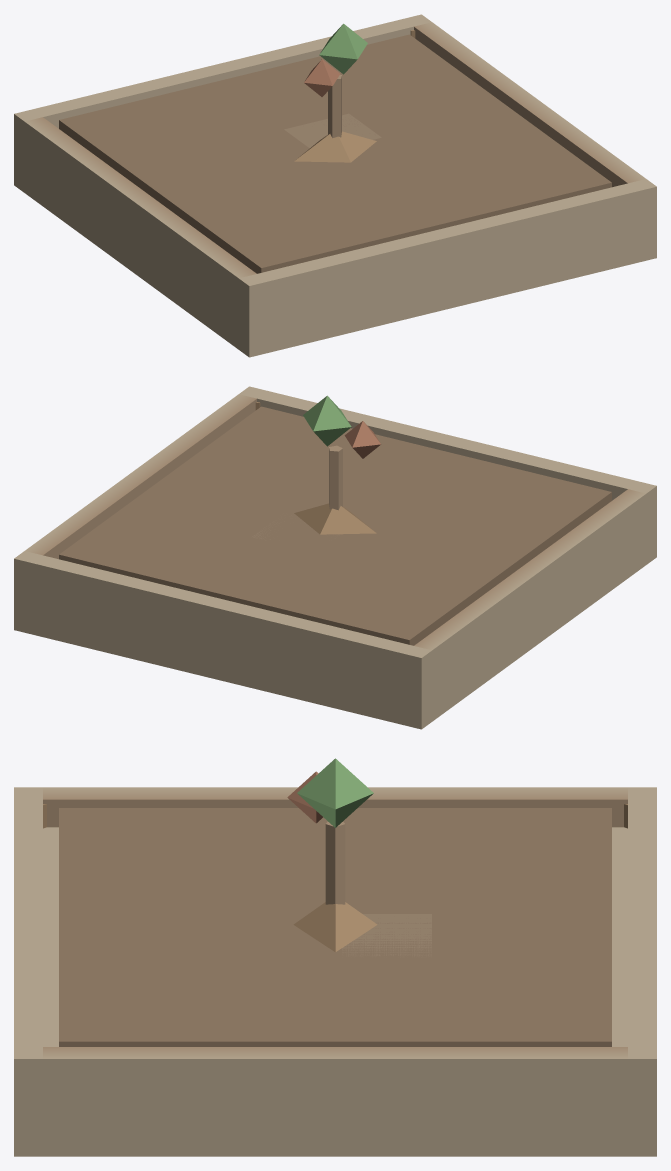
File: cacao_siembra_far.glb
The picture shows the model from 3 angles, top to bottom: view 1: azimuth 30°, elevation 25°; view 2: azimuth 150°, elevation 25°; view 3: azimuth 270°, elevation 25°; orthographic projection. The views are drawn at different scales.
Parts seen in each view (by area): view 1: model; view 2: model; view 3: model.
Boxes of the visible parts, bbox=[...] form: model: bbox=[14, 14, 656, 357]; model: bbox=[14, 386, 656, 729]; model: bbox=[14, 758, 656, 1156].
Size of the model in its own units: 1 by 0.46 by 1.
